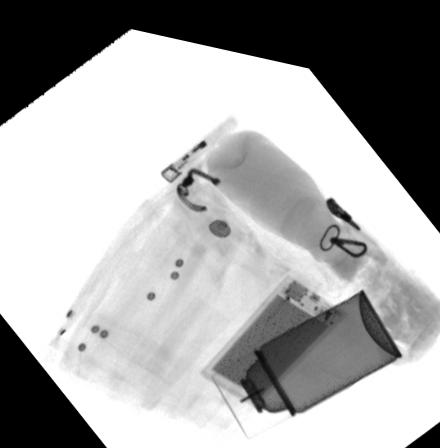Lighter: (160, 102, 239, 177)
Powerbank: (199, 260, 345, 395)
Sprayer: (210, 272, 402, 429)
